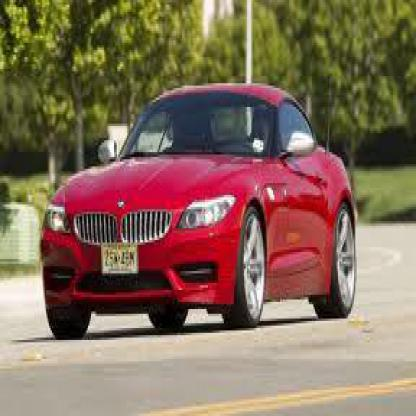Vehicle: (41, 86, 361, 340)
